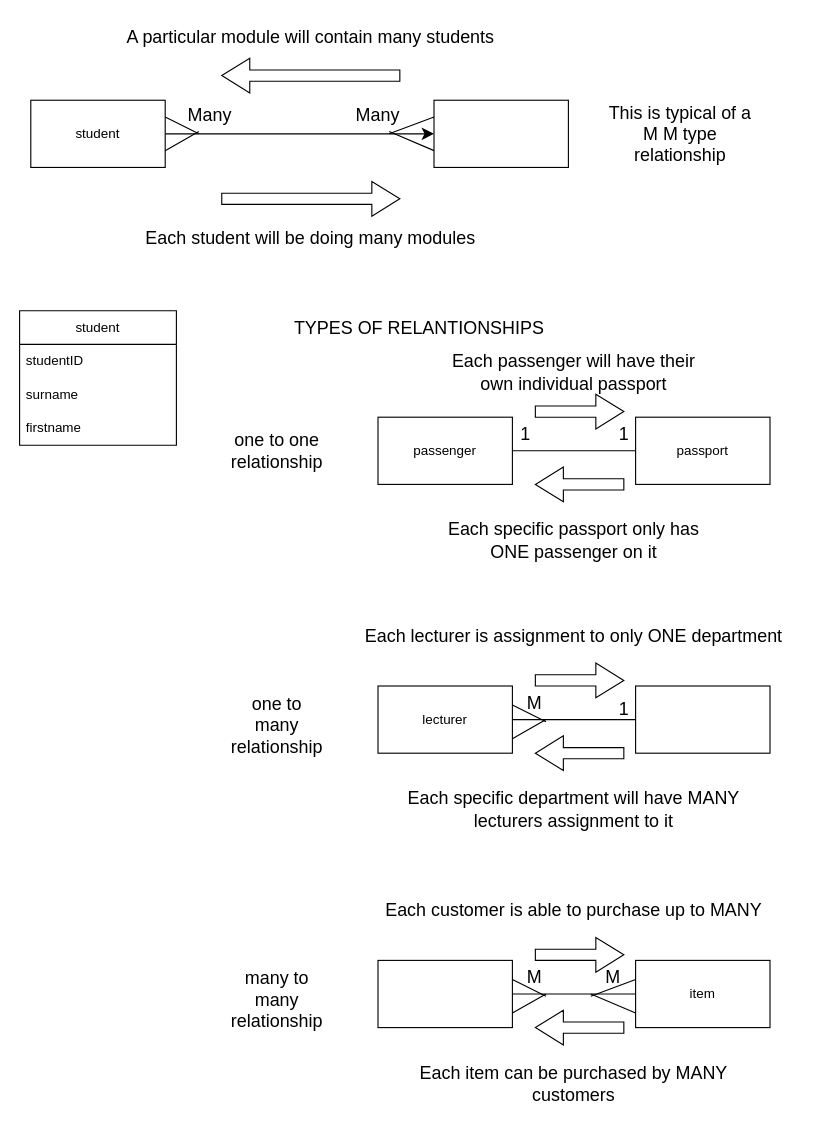
Image size: 823x1123. Some labels were removed from this diagram. The shapes that lost their labels are listed below. From the top down, each one's centre as x and y in pixels, then its label:
(500,133): module
(702,719): department
(444,993): customer
